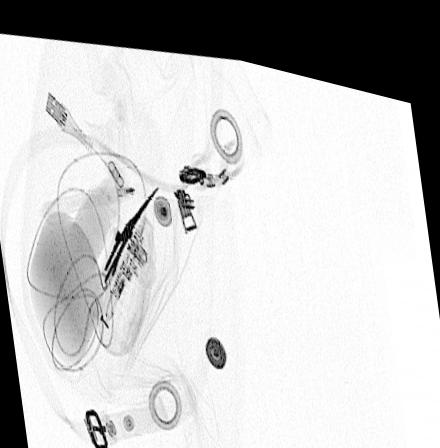Scissors: (97, 171, 163, 292)
